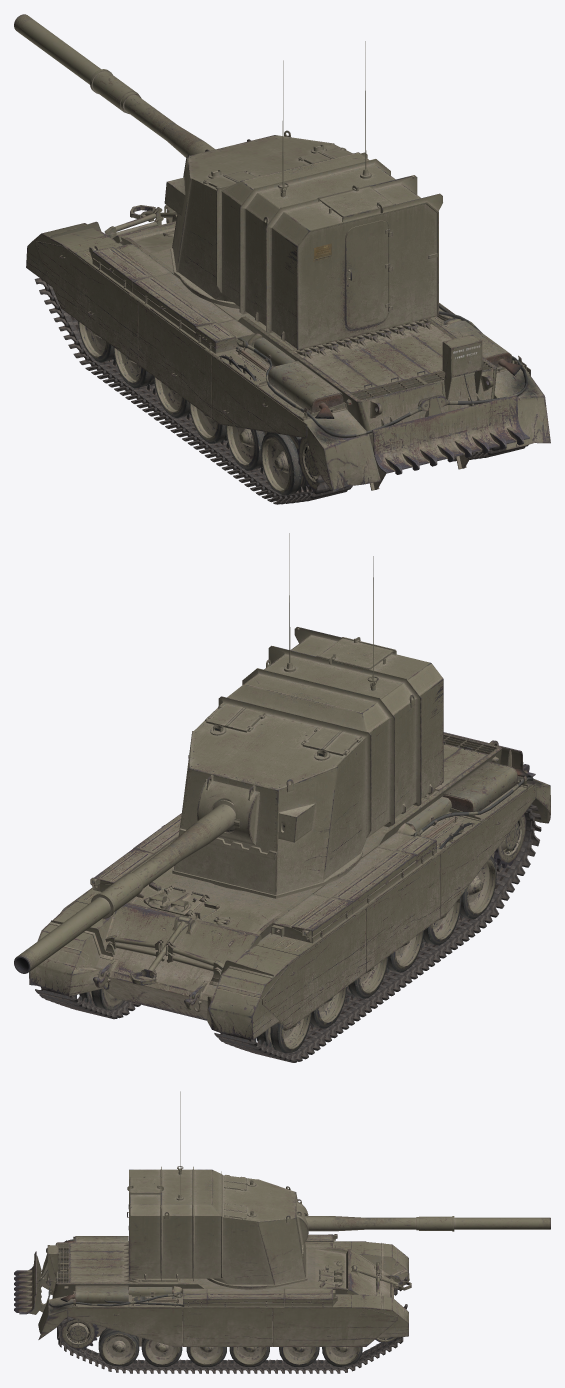
The picture shows the model from 3 angles, top to bottom: view 1: azimuth 30°, elevation 25°; view 2: azimuth 150°, elevation 25°; view 3: azimuth 270°, elevation 25°; orthographic projection. The views are drawn at different scales.
Visible parts, largest first — view 1: Hull, Turret_01, exportChassL1_Shape, segment, gun_01_Shape; view 2: Hull, Turret_01, segment, exportChassL1_Shape, gun_01_Shape, segment.001; view 3: Hull, Turret_01, exportChassR1_Shape, gun_01_Shape, segment.001.
Boxes of the visible parts, x1,y1,x2,y2 form: Hull: [26, 205, 550, 491]; Turret_01: [164, 41, 442, 349]; exportChassL1_Shape: [78, 321, 339, 494]; segment: [34, 278, 352, 504]; gun_01_Shape: [14, 14, 215, 157]; Hull: [29, 732, 550, 1039]; Turret_01: [172, 533, 443, 898]; segment: [214, 804, 541, 1062]; exportChassL1_Shape: [254, 814, 526, 1053]; gun_01_Shape: [14, 800, 235, 973]; segment.001: [35, 987, 140, 1019]; Hull: [14, 1234, 411, 1346]; Turret_01: [127, 1091, 308, 1289]; exportChassR1_Shape: [58, 1319, 396, 1366]; gun_01_Shape: [304, 1214, 550, 1231]; segment.001: [57, 1311, 403, 1373].
Bounding box in the file's own units: 3.38 × 5.46 × 11.19.
7 materials, 7 textured.
